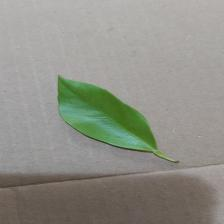healthy: (52, 76, 162, 152)
